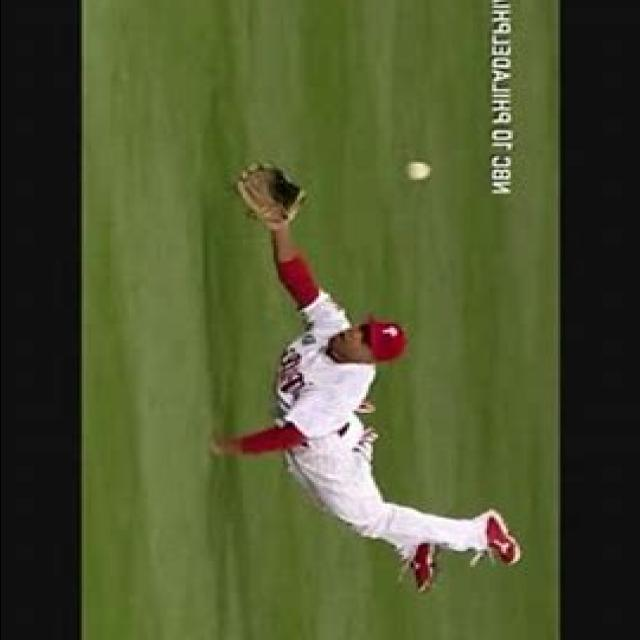ball: (405, 161, 431, 183)
glove: (230, 158, 310, 229)
